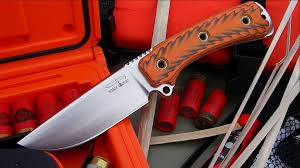knife: (16, 2, 276, 152)
